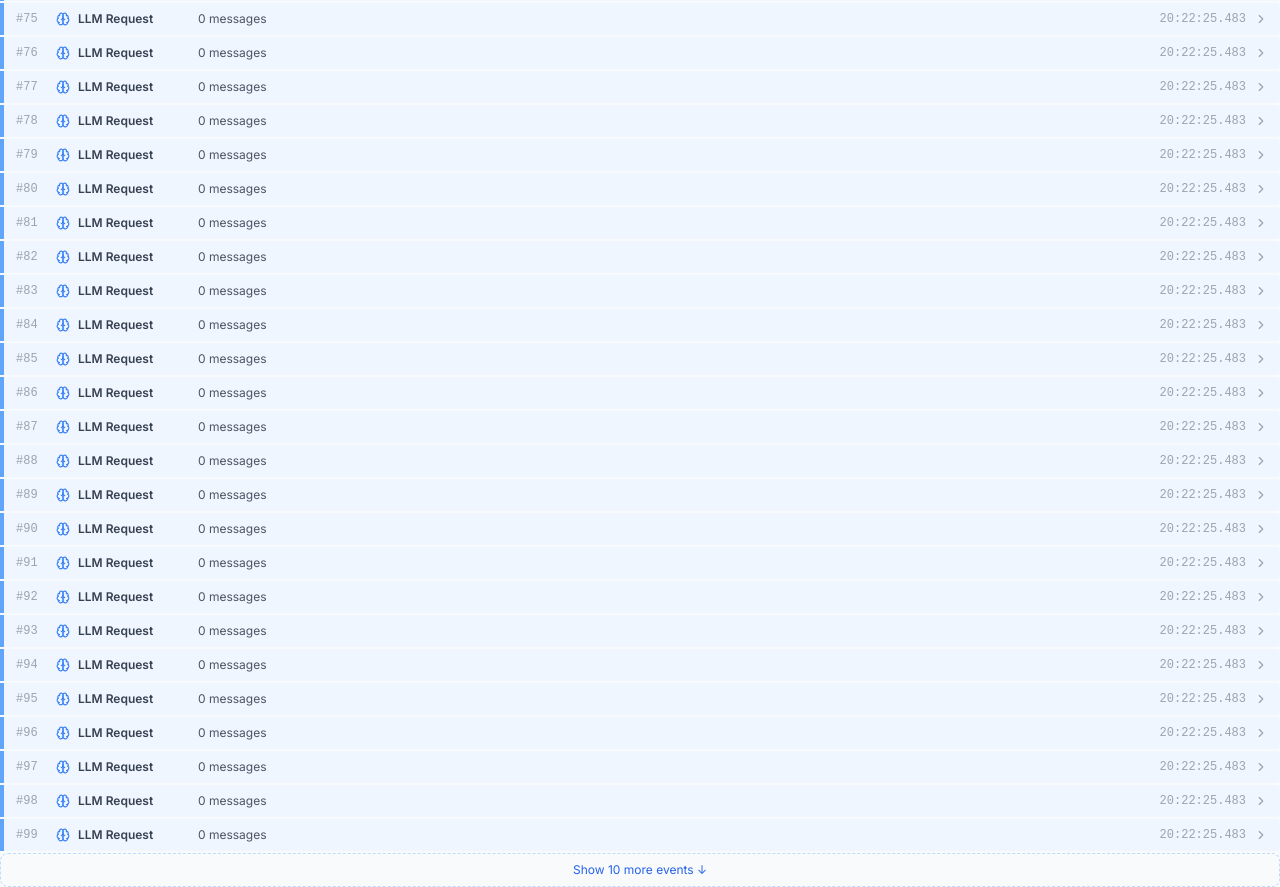
it: EventTimeline › reveals all events when 'Show more' is clicked
The image size is (1280, 887).
(page scrolled)
Click the button "Show 10 more events ↓" at (640, 870), box [0,853,1279,886]
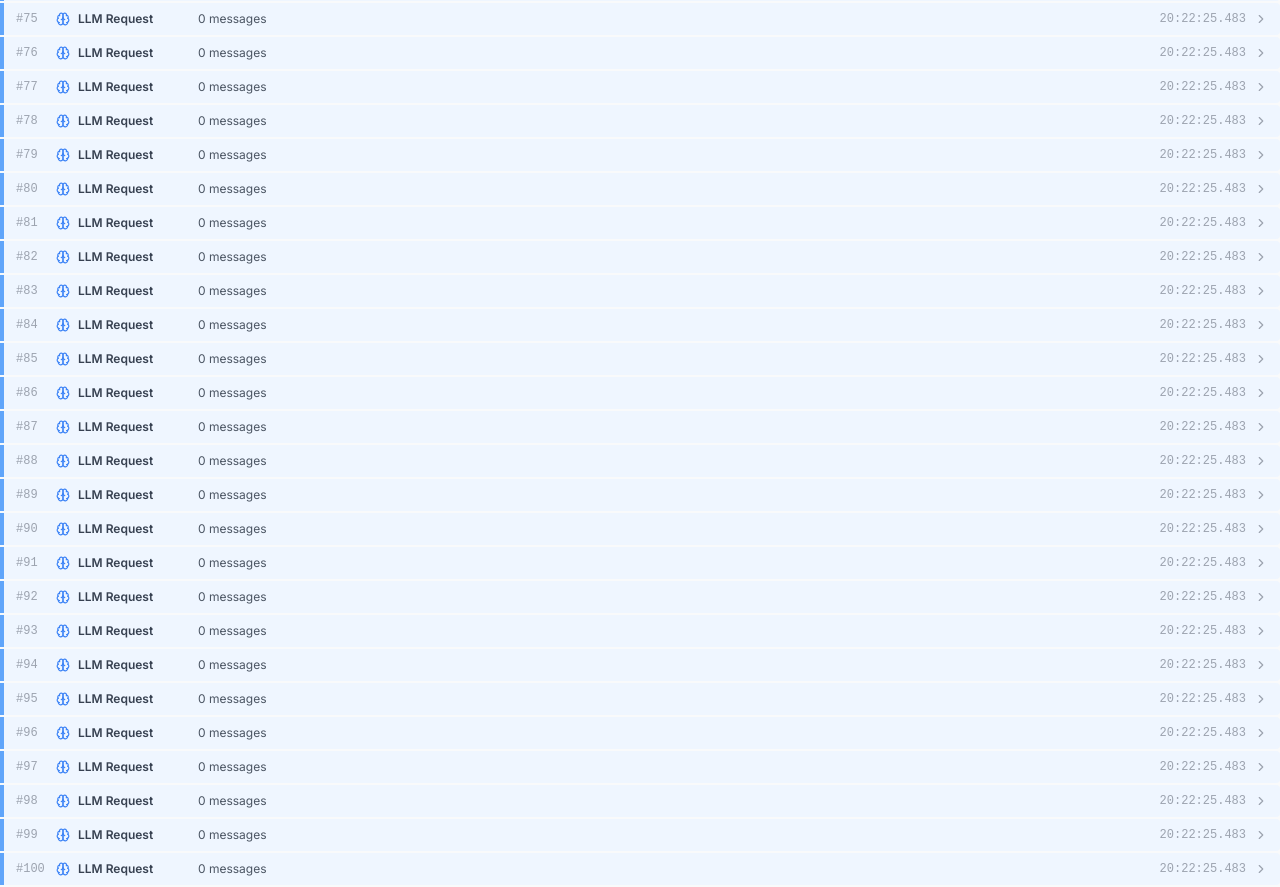
Now the button "Show 10 more events ↓" is gone
